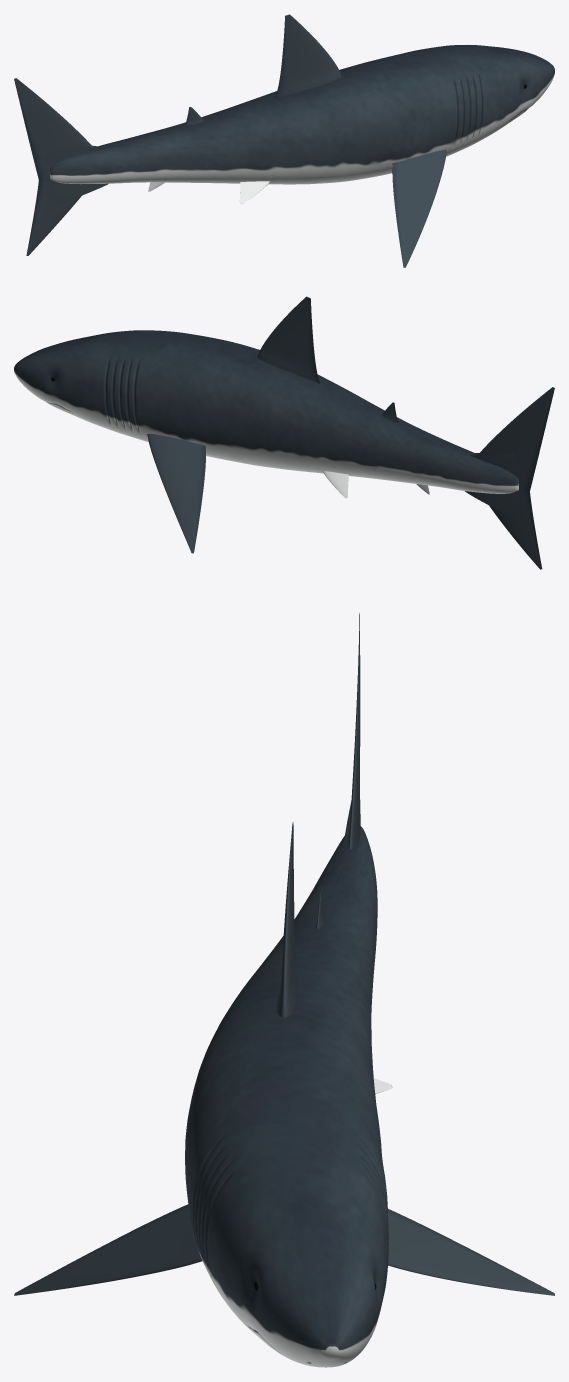
The model's file is great_white.glb.
3 views of the same model, one above another, from view 1: azimuth 30°, elevation 25°; view 2: azimuth 150°, elevation 25°; view 3: azimuth 270°, elevation 25° (orthographic). The views are drawn at different scales.
Visible parts, largest first — view 1: GreatWhite_Body, GreatWhite_Fins; view 2: GreatWhite_Body, GreatWhite_Fins; view 3: GreatWhite_Body, GreatWhite_Fins.
Part boxes in pixels (x1,y1,x2,y2): GreatWhite_Body: (50, 45, 554, 184); GreatWhite_Fins: (14, 14, 446, 267); GreatWhite_Body: (14, 330, 518, 493); GreatWhite_Fins: (147, 296, 554, 569); GreatWhite_Body: (185, 826, 388, 1367); GreatWhite_Fins: (14, 613, 554, 1295).
Bounding box in the file's own units: 4.5 × 1.72 × 1.98.
Materials: 3 (1 with a texture image).
